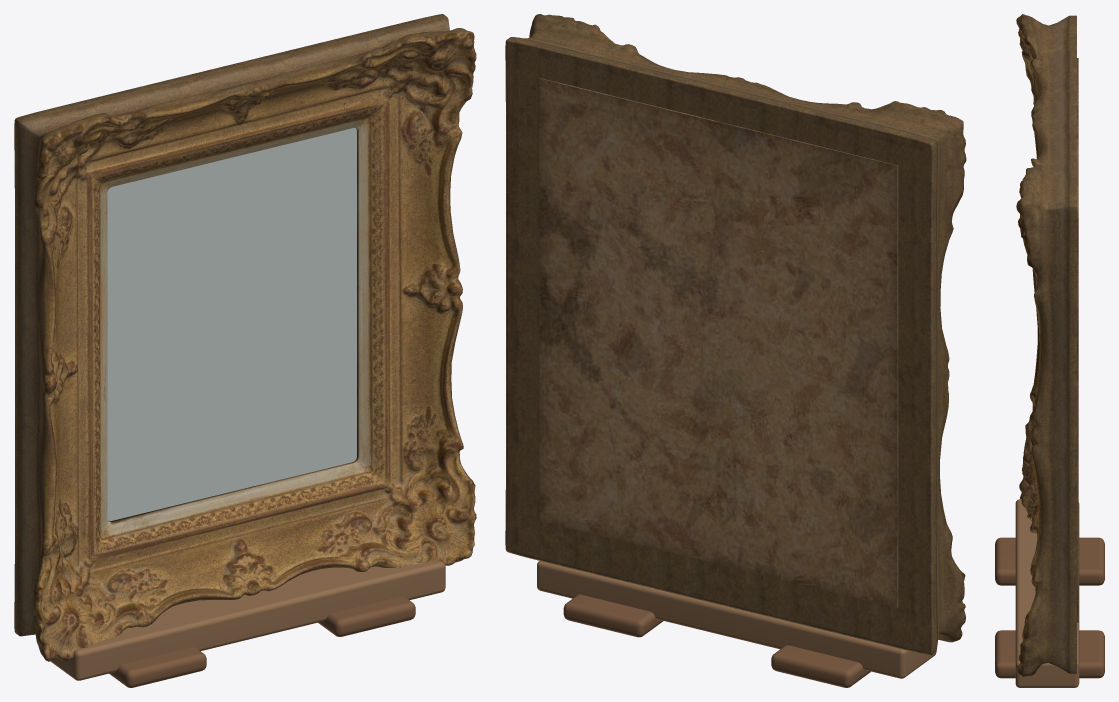
Rendered from chapter-v-3c467f6879e7.glb.
3 renders of one model, left to right at view 1: azimuth 30°, elevation 25°; view 2: azimuth 150°, elevation 25°; view 3: azimuth 270°, elevation 25°, orthographic. The views are drawn at different scales.
Parts seen in each view (by area): view 1: CC0 carved frame 02 · new mirror surround, New silvered glass, no image or face, Mirror plinth, Mirror support foot; view 2: CC0 carved frame 02 · new mirror surround, Mirror plinth, Mirror support foot; view 3: CC0 carved frame 02 · new mirror surround, Mirror support foot, Mirror plinth.
Boxes of the visible parts, left/top/right/bottom form: CC0 carved frame 02 · new mirror surround: left=14, top=14, right=476, bottom=661; New silvered glass, no image or face: left=107, top=128, right=356, bottom=520; Mirror plinth: left=50, top=561, right=445, bottom=680; Mirror support foot: left=109, top=596, right=415, bottom=687; CC0 carved frame 02 · new mirror surround: left=505, top=14, right=966, bottom=655; Mirror plinth: left=537, top=561, right=936, bottom=678; Mirror support foot: left=563, top=594, right=870, bottom=687; CC0 carved frame 02 · new mirror surround: left=1016, top=14, right=1078, bottom=676; Mirror support foot: left=995, top=537, right=1104, bottom=678; Mirror plinth: left=1015, top=499, right=1079, bottom=687.
Bounding box in the file's own units: 2.61 × 3.22 × 0.6201.
Materials: 5 (1 with a texture image).
